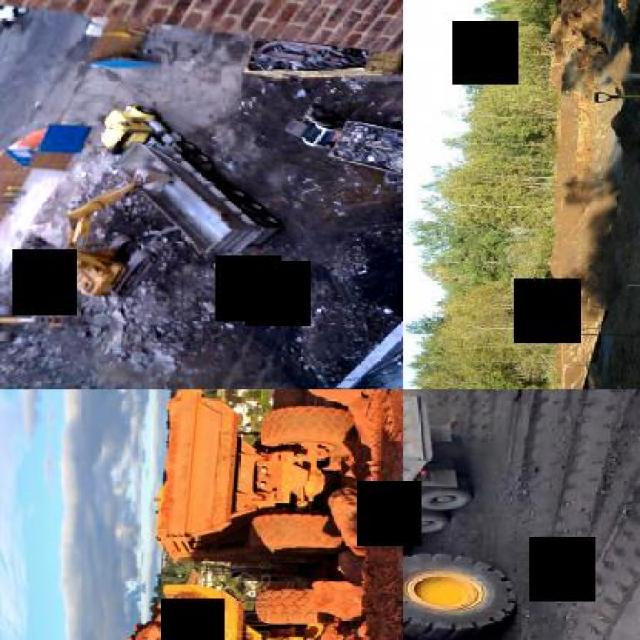buldozerpayloadergrader: (403, 416, 588, 638)
dump_truck: (154, 389, 352, 568), (403, 390, 483, 598), (122, 580, 360, 638)
excavator: (59, 162, 179, 296), (0, 306, 69, 342)
